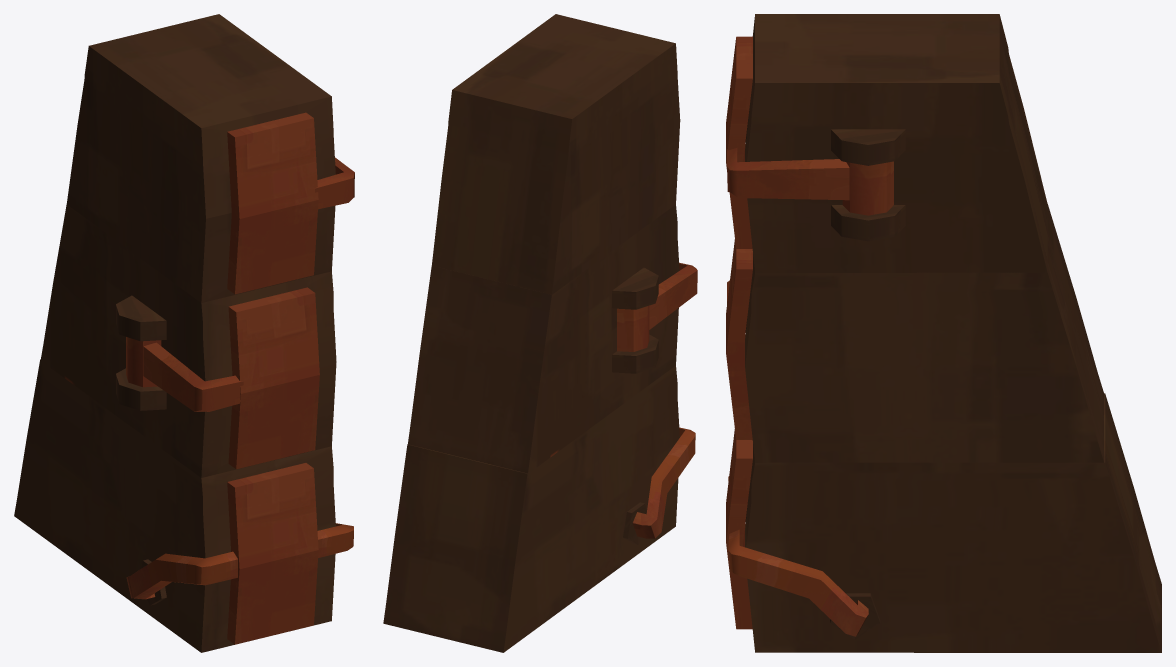
File: inkHouseBig.fbx
3 views of the same model, side by side, from view 1: azimuth 30°, elevation 25°; view 2: azimuth 150°, elevation 25°; view 3: azimuth 270°, elevation 25° (orthographic). The views are drawn at different scales.
Parts seen in each view (by area): view 1: inkHouse03_topPart, inkHouse03_botmPart, inkHouse03_midPart, inkHouse03_midLid, inkHouse03_botmLid, inkHouse03_topLid; view 2: inkHouse03_topPart, inkHouse03_botmPart, inkHouse03_midPart, inkHouse03_midLid, inkHouse03_botmLid; view 3: inkHouse03_botmPart, inkHouse03_midPart, inkHouse03_topPart, inkHouse03_topLid, inkHouse03_botmLid, inkHouse03_midLid.
Boxes of the visible parts, x1,y1,x2,y2 form: inkHouse03_topPart: (66, 14, 335, 302); inkHouse03_botmPart: (14, 359, 335, 652); inkHouse03_midPart: (40, 204, 336, 477); inkHouse03_midLid: (116, 287, 319, 469); inkHouse03_botmLid: (126, 463, 353, 644); inkHouse03_topLid: (227, 112, 354, 294); inkHouse03_topPart: (432, 14, 680, 294); inkHouse03_botmPart: (383, 365, 679, 652); inkHouse03_midPart: (408, 204, 679, 473); inkHouse03_midLid: (612, 262, 697, 373); inkHouse03_botmLid: (623, 427, 695, 544); inkHouse03_botmPart: (745, 393, 1161, 652); inkHouse03_midPart: (745, 204, 1103, 462); inkHouse03_topPart: (745, 14, 1047, 272); inkHouse03_topLid: (726, 36, 905, 248); inkHouse03_botmLid: (726, 429, 880, 639); inkHouse03_midLid: (726, 239, 752, 439).
Size of the model in its own units: 3.18 by 8.41 by 5.83.
